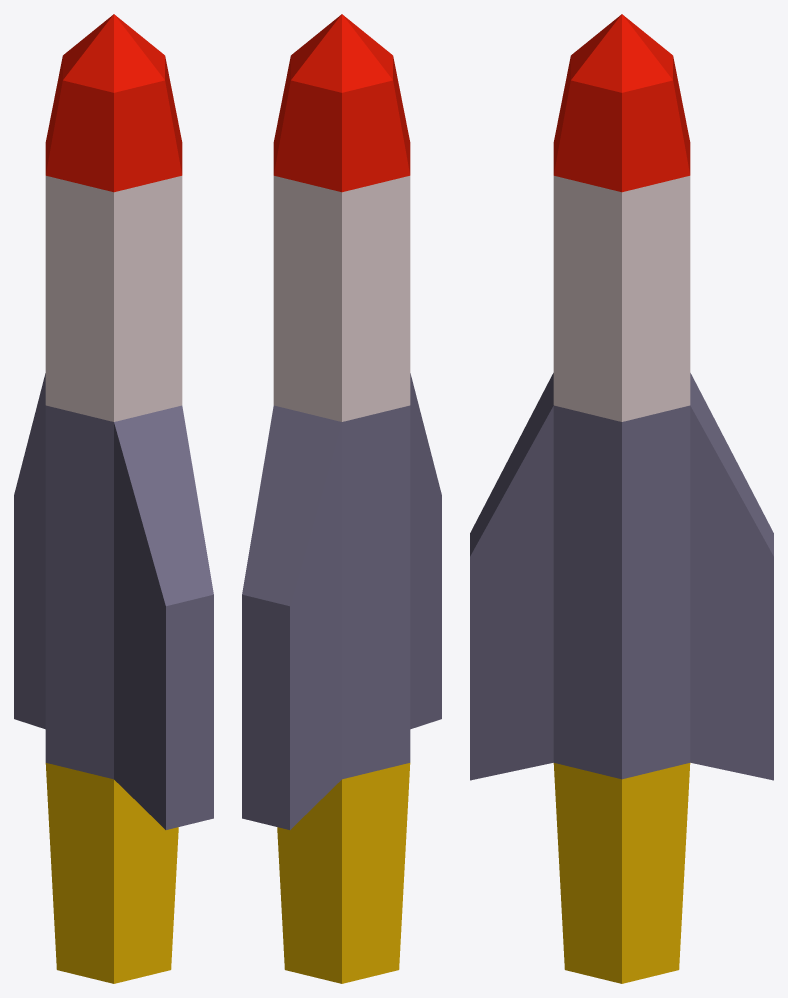
File: RocketProjectile.fbx
The picture shows the model from 3 angles, left to right: view 1: azimuth 30°, elevation 25°; view 2: azimuth 150°, elevation 25°; view 3: azimuth 270°, elevation 25°; orthographic projection.
Parts seen in each view (by area): view 1: Plane.001; view 2: Plane.001; view 3: Plane.001.
Boxes of the visible parts, <box> form: Plane.001: <box>14,14,213,983</box>; Plane.001: <box>242,14,441,983</box>; Plane.001: <box>470,14,773,983</box>.
Size of the model in its own units: 0.2326 by 1.53 by 0.448.
